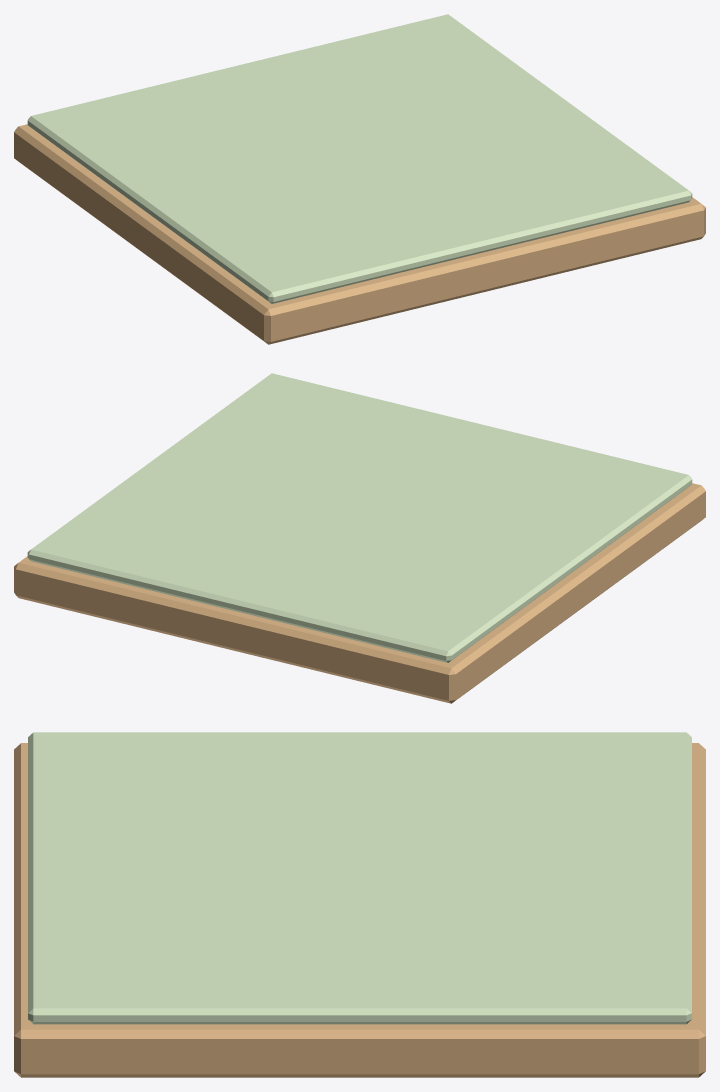
File: tuile_herbe.glb
3 renders of one model, top to bottom at view 1: azimuth 30°, elevation 25°; view 2: azimuth 150°, elevation 25°; view 3: azimuth 270°, elevation 25°, orthographic. The views are drawn at different scales.
Parts seen in each view (by area): view 1: tuile_herbe_top, tuile_herbe_base; view 2: tuile_herbe_top, tuile_herbe_base; view 3: tuile_herbe_top, tuile_herbe_base.
Part boxes in pixels (x1,y1,x2,y2): tuile_herbe_top: (27,14,692,303); tuile_herbe_base: (14,124,705,344); tuile_herbe_top: (27,373,692,662); tuile_herbe_base: (14,483,705,703); tuile_herbe_top: (28,732,691,1024); tuile_herbe_base: (14,743,705,1077).
Size of the model in its own units: 1.96 by 0.2 by 1.96.
